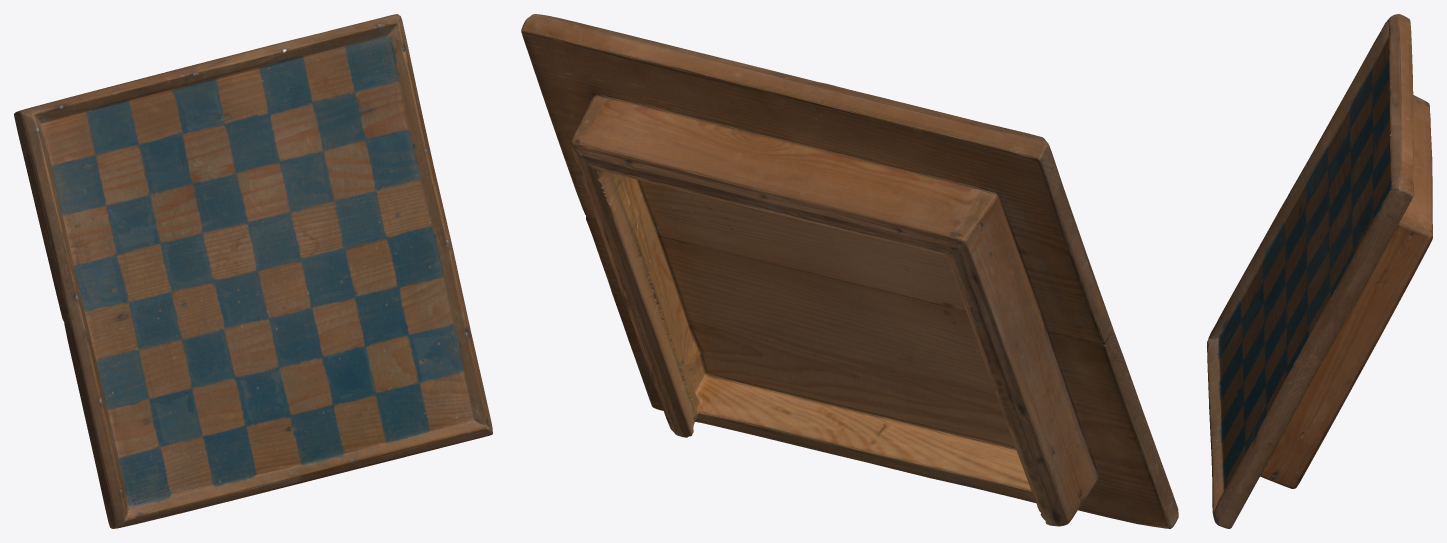
Rendered from 63774362-8F38-EB4E-9CEE-81B2C03E9E95_2k.glb.
3 renders of one model, left to right at view 1: azimuth 30°, elevation 25°; view 2: azimuth 150°, elevation 25°; view 3: azimuth 270°, elevation 25°, orthographic. The views are drawn at different scales.
Visible parts, largest first — view 1: Schachbrett_8k_2k; view 2: Schachbrett_8k_2k; view 3: Schachbrett_8k_2k.
Boxes of the visible parts, <box> form: Schachbrett_8k_2k: <box>14,14,492,528</box>; Schachbrett_8k_2k: <box>521,14,1178,528</box>; Schachbrett_8k_2k: <box>1207,14,1432,528</box>.
Bounding box in the file's own units: 0.4567 × 0.4058 × 0.2422.
1 material, 1 textured.
